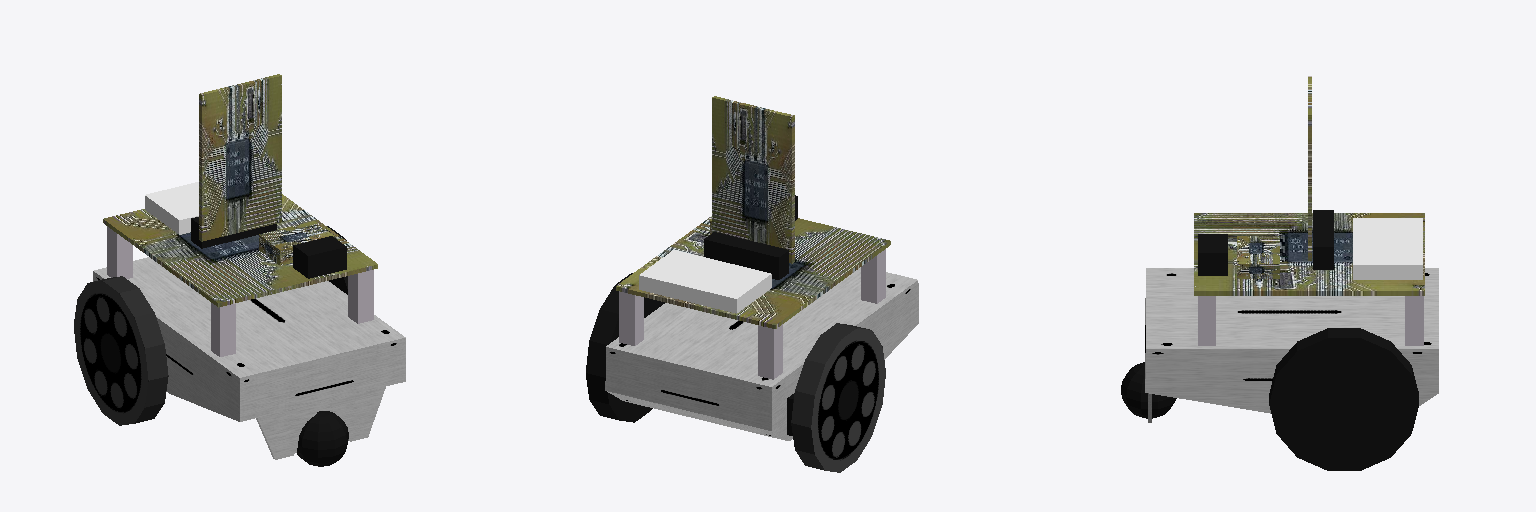
3 views of the same model, side by side, from view 1: azimuth 30°, elevation 25°; view 2: azimuth 150°, elevation 25°; view 3: azimuth 270°, elevation 25° (orthographic).
Parts seen in each view (by area): view 1: 6.02.2007.0613; view 2: 6.02.2007.0613; view 3: 6.02.2007.0613.
Boxes of the visible parts, x1=… form: 6.02.2007.0613: x1=74, y1=74, x2=405, y2=466; 6.02.2007.0613: x1=586, y1=96, x2=918, y2=472; 6.02.2007.0613: x1=1121, y1=76, x2=1438, y2=470.
Size of the model in its own units: 0.1128 by 0.1533 by 0.1379.
Materials: 12 (3 with a texture image).